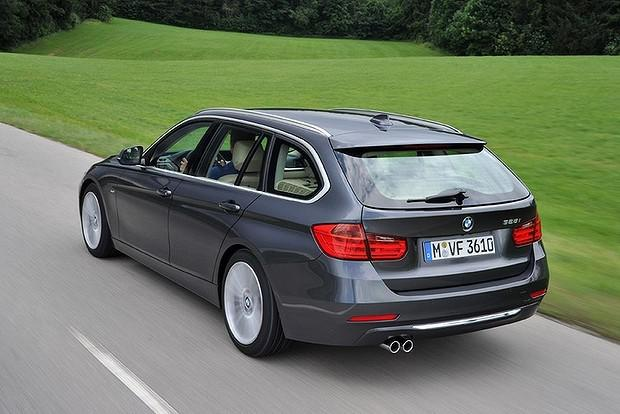Car: (63, 93, 556, 379)
